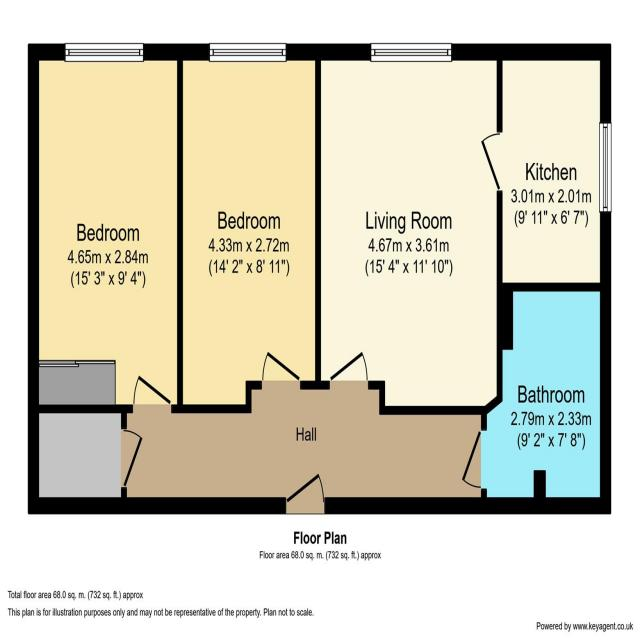DOOR: (284, 471, 326, 514), (328, 349, 369, 390), (460, 428, 487, 490), (261, 349, 301, 390), (132, 373, 173, 413), (479, 131, 503, 193)
ROOM: (314, 43, 513, 415), (27, 43, 183, 414), (177, 43, 322, 414), (479, 43, 612, 292)
WINDOW: (370, 42, 452, 63), (64, 42, 145, 63), (208, 42, 287, 63), (599, 121, 612, 213)
